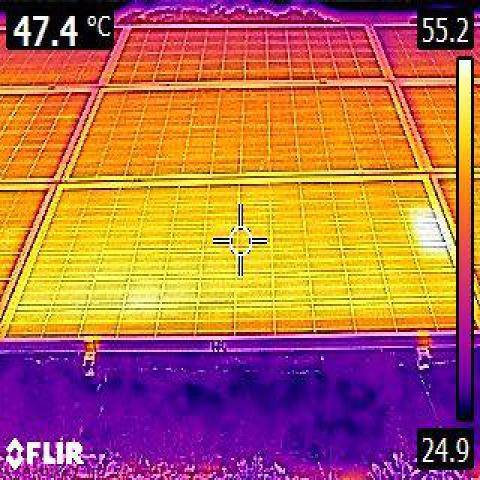fault: (420, 216, 442, 253)
